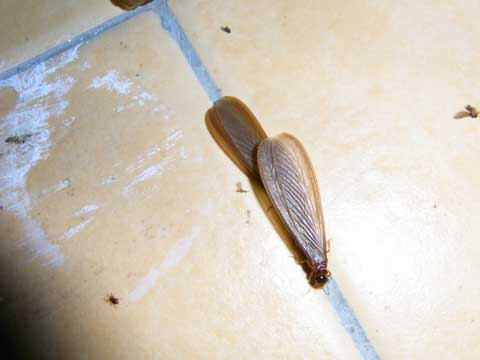flying termite: (252, 124, 340, 296)
